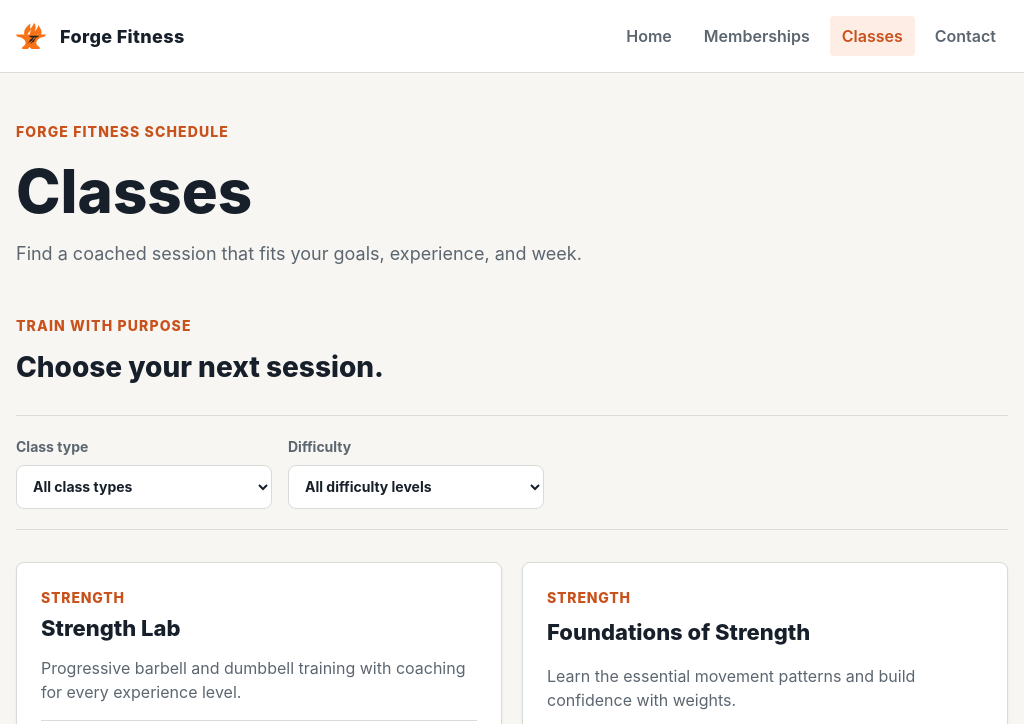
it: App › lists classes with schedule details and filters by type and difficulty
Expected: the heading "Strength Lab" is shown, left=41, top=615, right=180, bottom=641
Select "Mobility" in the dropdown labelled "Class type" at (144, 487), box left=16, top=465, right=272, bottom=509
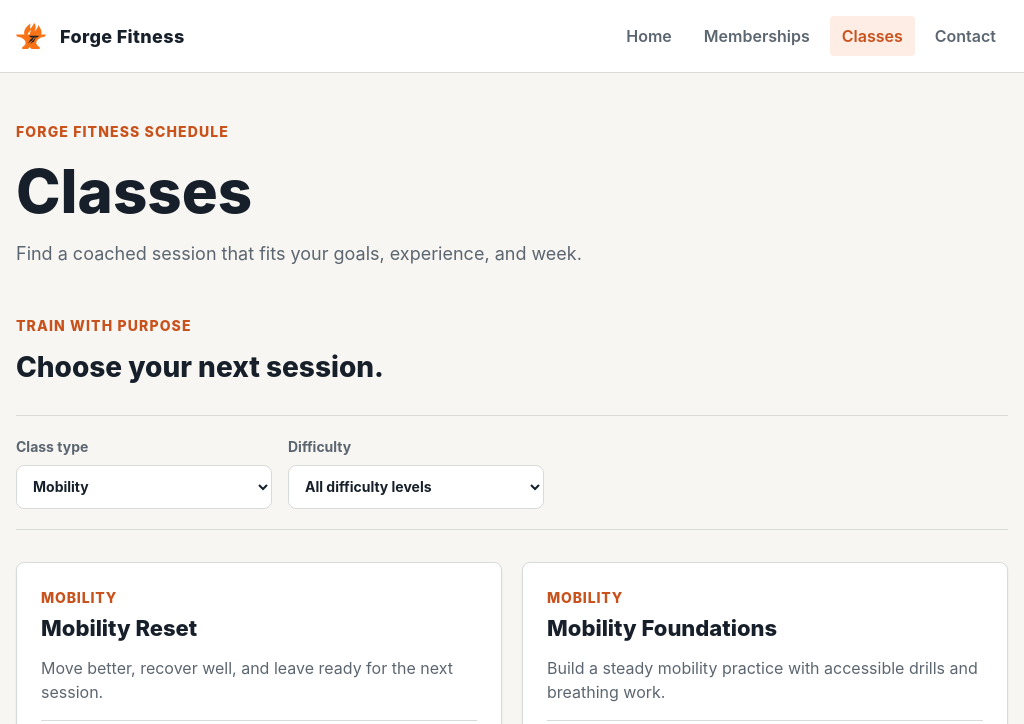
Expected: the heading "Mobility Reset" is shown, left=41, top=615, right=197, bottom=641
Result: the heading "Strength Lab" is gone
Select "Advanced" in the dropdown labelled "Difficulty" at (416, 487), box left=288, top=465, right=544, bottom=509
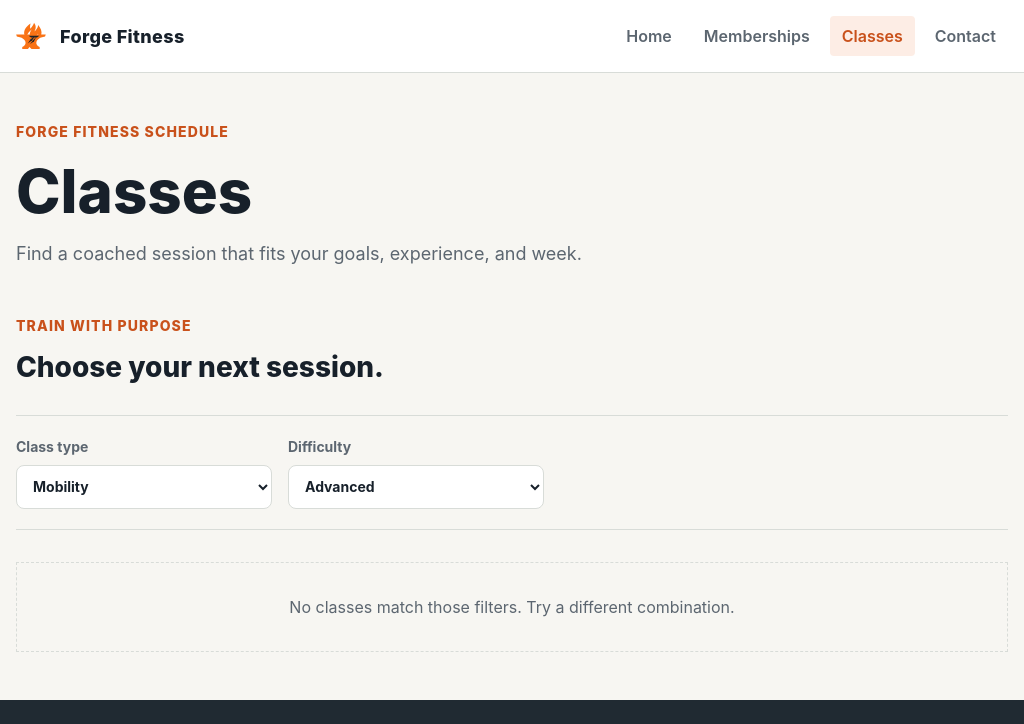
Expected: the heading "Classes" is shown, left=16, top=155, right=252, bottom=227
Result: the message shows "No classes match those filters" at left=289, top=597, right=735, bottom=617
